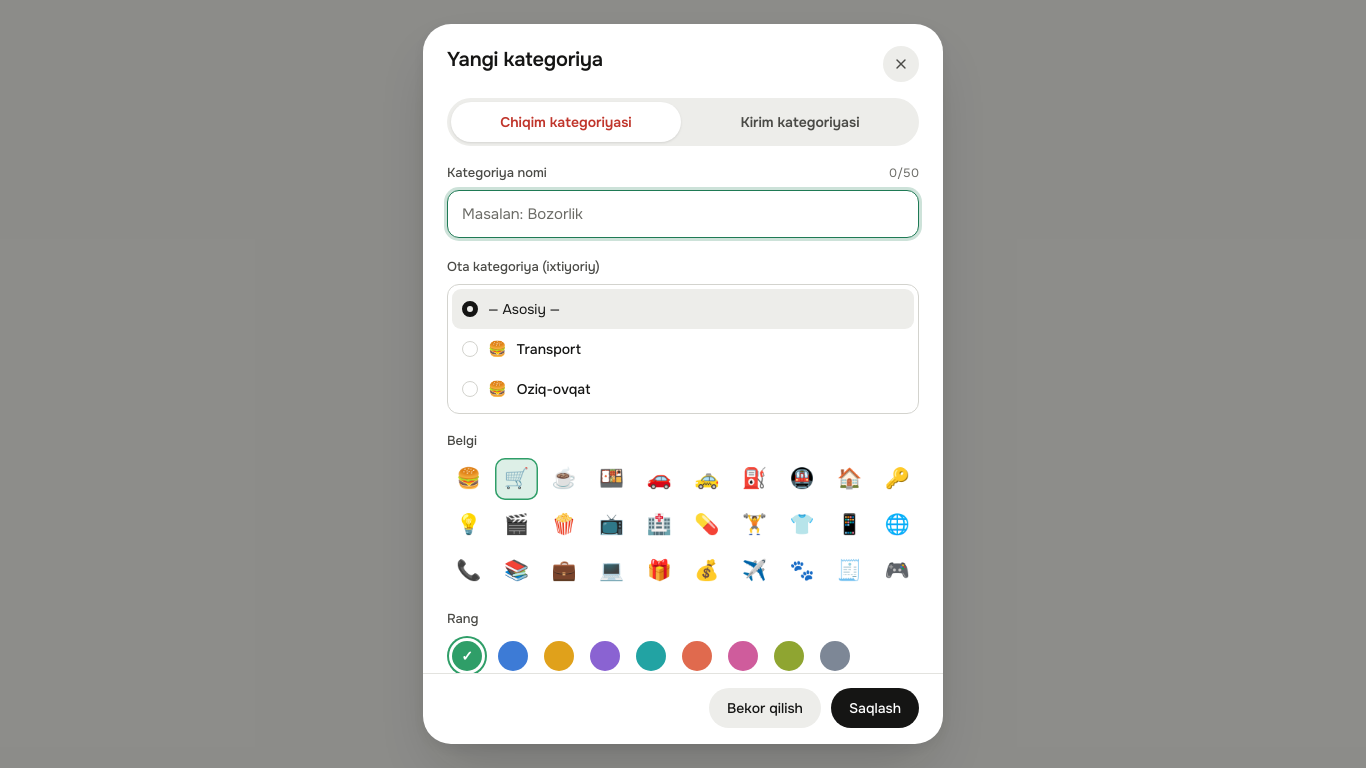
Test: CategoryModal › shows a taken name next to the field
Type "Oziq-ovqat" into the field labelled "Kategoriya nomi" at (683,214), box x1=447 y1=190 x2=919 y2=238
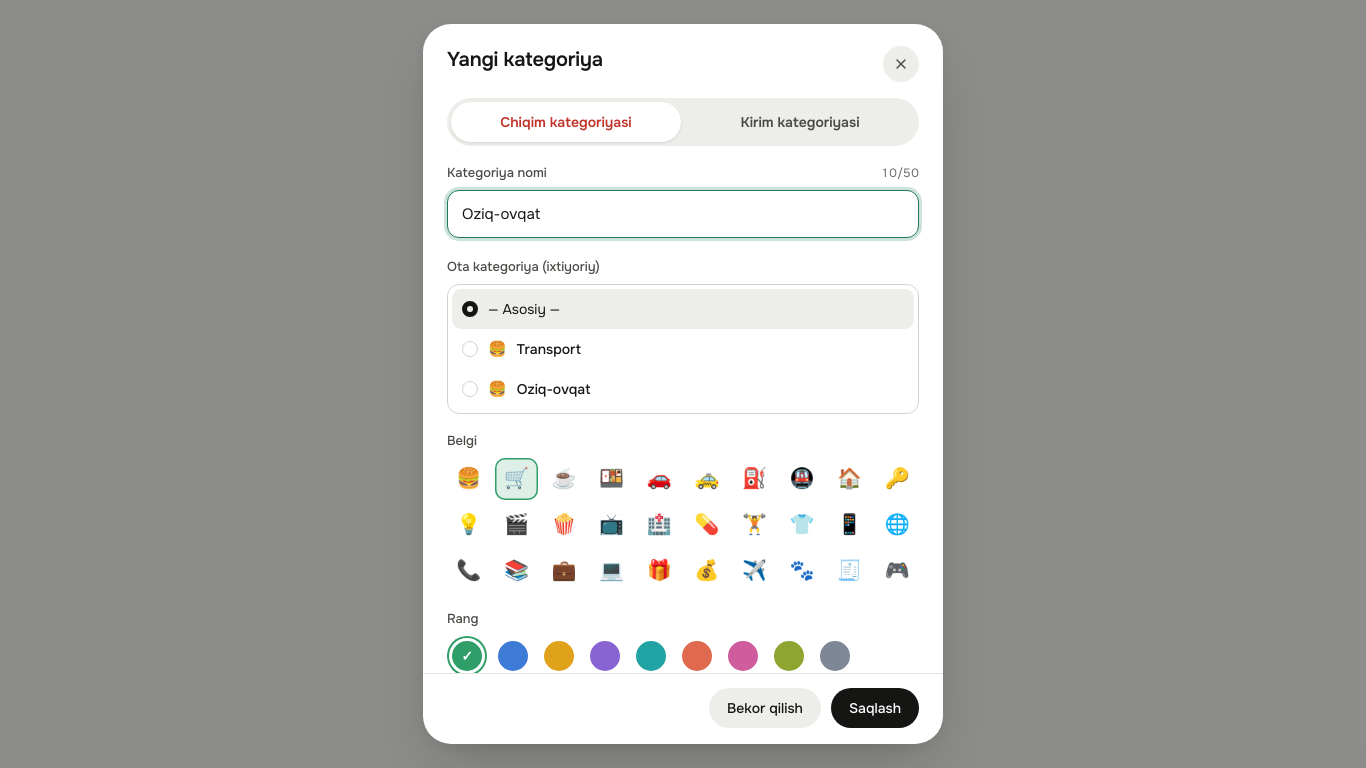
Click the button "Saqlash" at (875,708), box x1=831 y1=688 x2=919 y2=728
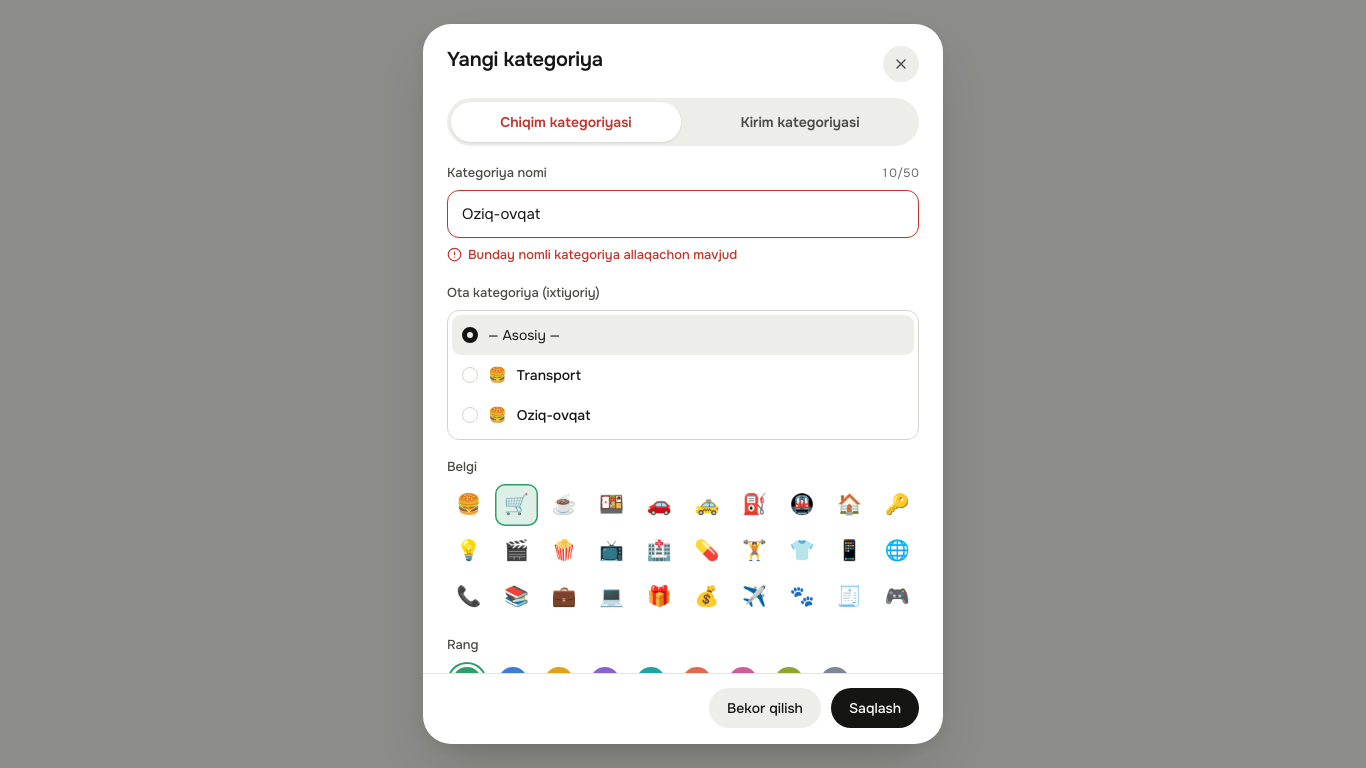
Now the message reads "Bunday nomli kategoriya allaqachon mavjud", box x1=468 y1=246 x2=737 y2=263
